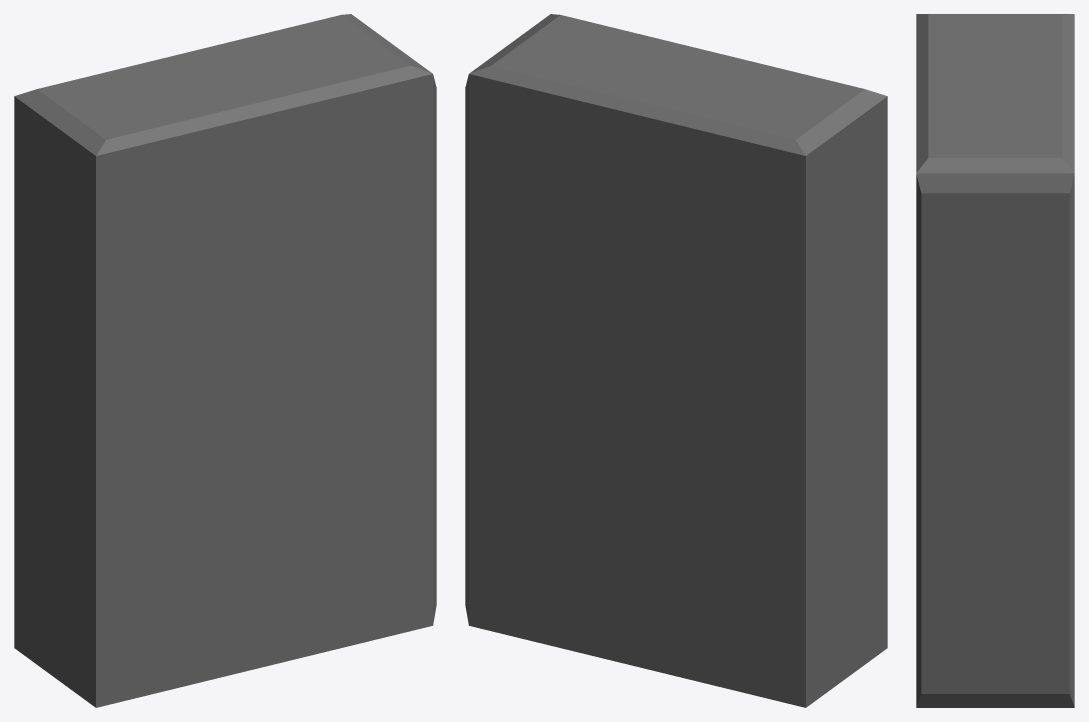
File: Itr_Couch_Inside_Back_03.FBX
3 views of the same model, side by side, from view 1: azimuth 30°, elevation 25°; view 2: azimuth 150°, elevation 25°; view 3: azimuth 270°, elevation 25° (orthographic). The views are drawn at different scales.
Visible parts, largest first — view 1: Itr_Couch_Inside_Back_03; view 2: Itr_Couch_Inside_Back_03; view 3: Itr_Couch_Inside_Back_03.
Part boxes in pixels (left/top/right/bottom): Itr_Couch_Inside_Back_03: left=14, top=14, right=436, bottom=707; Itr_Couch_Inside_Back_03: left=465, top=14, right=887, bottom=707; Itr_Couch_Inside_Back_03: left=916, top=14, right=1074, bottom=707.
Size of the model in its own units: 18.9 by 29.45 by 7.8.
